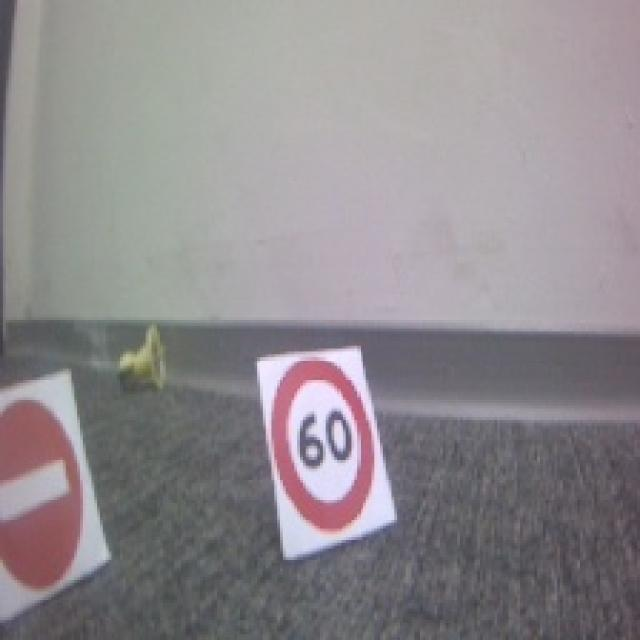DoNotEnterSign: (0, 396, 84, 592)
